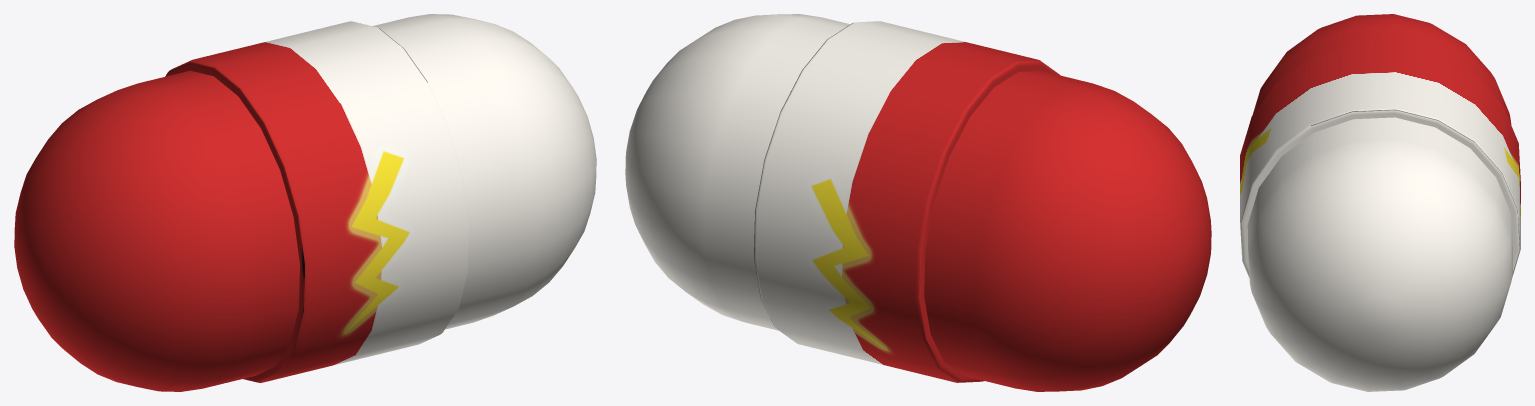
Rendered from parasite_pill.fbx.
The picture shows the model from 3 angles, left to right: view 1: azimuth 30°, elevation 25°; view 2: azimuth 150°, elevation 25°; view 3: azimuth 270°, elevation 25°; orthographic projection. The views are drawn at different scales.
Visible parts, largest first — view 1: pCylinder3; view 2: pCylinder3; view 3: pCylinder3.
Part boxes in pixels (x1,y1,x2,y2): pCylinder3: (14,14,596,391); pCylinder3: (625,14,1211,391); pCylinder3: (1240,14,1520,391).
Size of the model in its own units: 4 by 2.11 by 2.11.
1 material, 1 textured.
